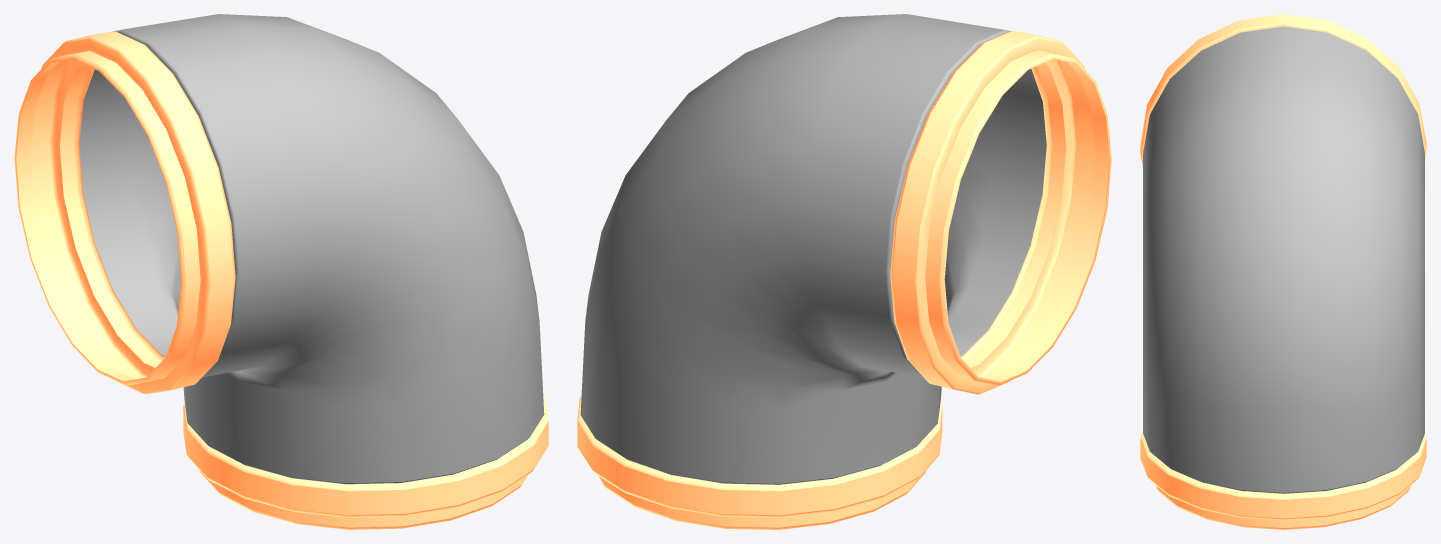
Rendered from SM_Smallpipe4.fbx.
The picture shows the model from 3 angles, left to right: view 1: azimuth 30°, elevation 25°; view 2: azimuth 150°, elevation 25°; view 3: azimuth 270°, elevation 25°; orthographic projection. The views are drawn at different scales.
Visible parts, largest first — view 1: SM_Smallpipe4_LOD0; view 2: SM_Smallpipe4_LOD0; view 3: SM_Smallpipe4_LOD0.
Boxes of the visible parts, <box> form: SM_Smallpipe4_LOD0: <box>14,14,548,529</box>; SM_Smallpipe4_LOD0: <box>577,14,1111,529</box>; SM_Smallpipe4_LOD0: <box>1140,14,1426,529</box>.
Bounding box in the file's own units: 68.28 × 50.94 × 71.98.
